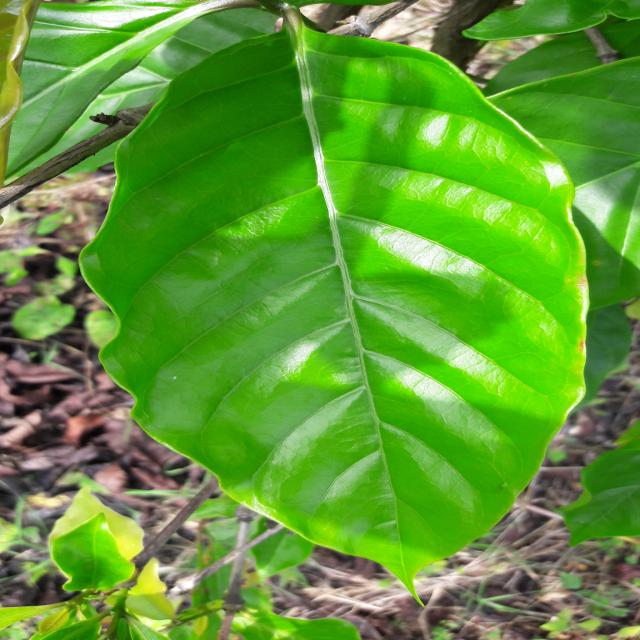Sanas: (78, 18, 593, 587)
